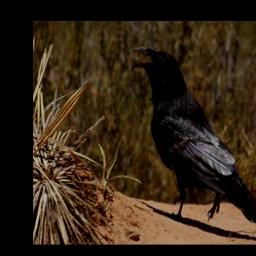Crow: (133, 46, 256, 223)
